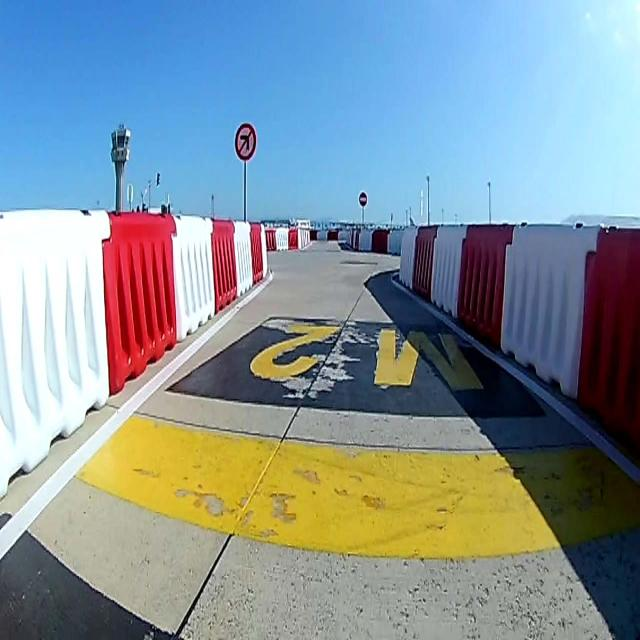girisyok: (357, 188, 368, 208)
soladonulmez: (234, 121, 256, 162)
